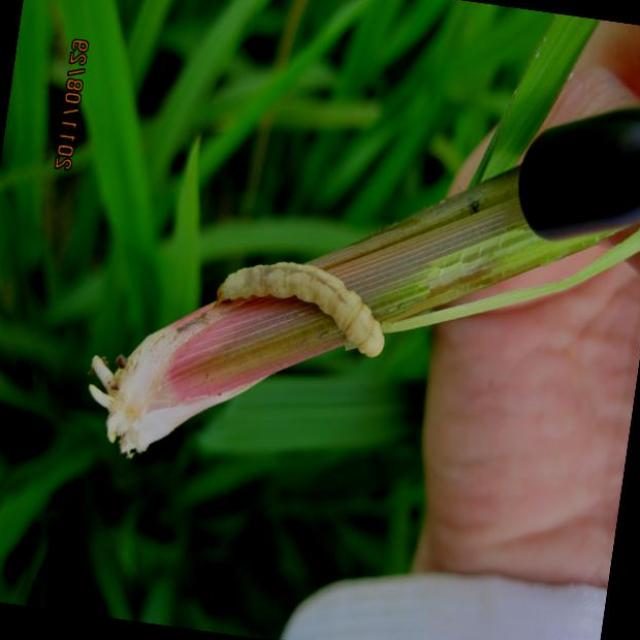stem borer: (219, 262, 384, 357)
